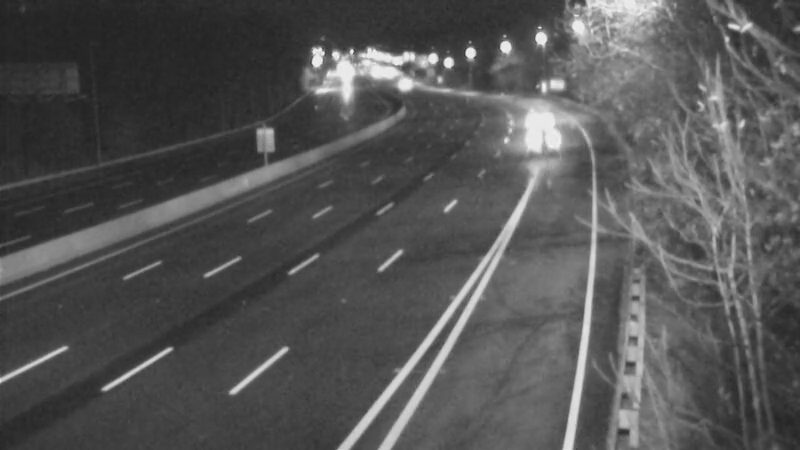vehicle: (377, 60, 427, 110), (509, 91, 559, 141), (519, 120, 569, 170)
